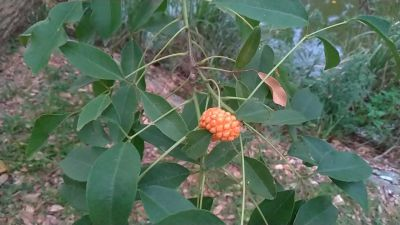eggs: (199, 103, 244, 146)
